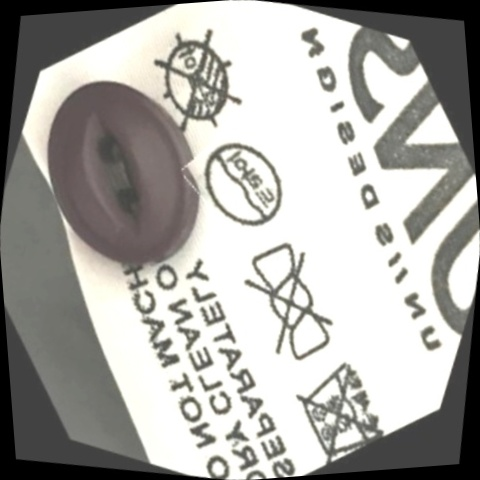DN_dry: (117, 0, 278, 162)
DN_wring: (198, 214, 379, 395)
dry_clean: (169, 110, 316, 259)
hand_wash: (261, 325, 417, 478)
